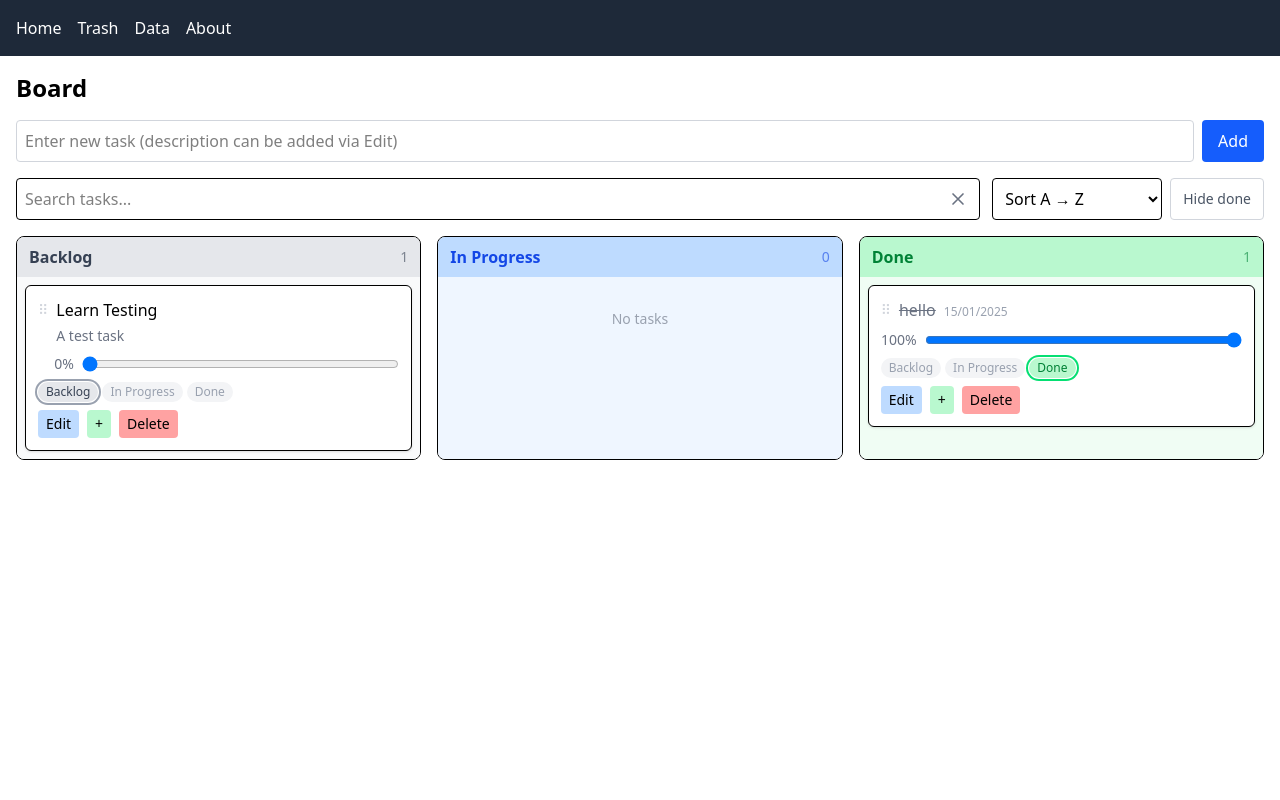
it: saves updated description from edit modal
Click the button "Edit" below "A test task": click(59, 424) [38,410,79,438]
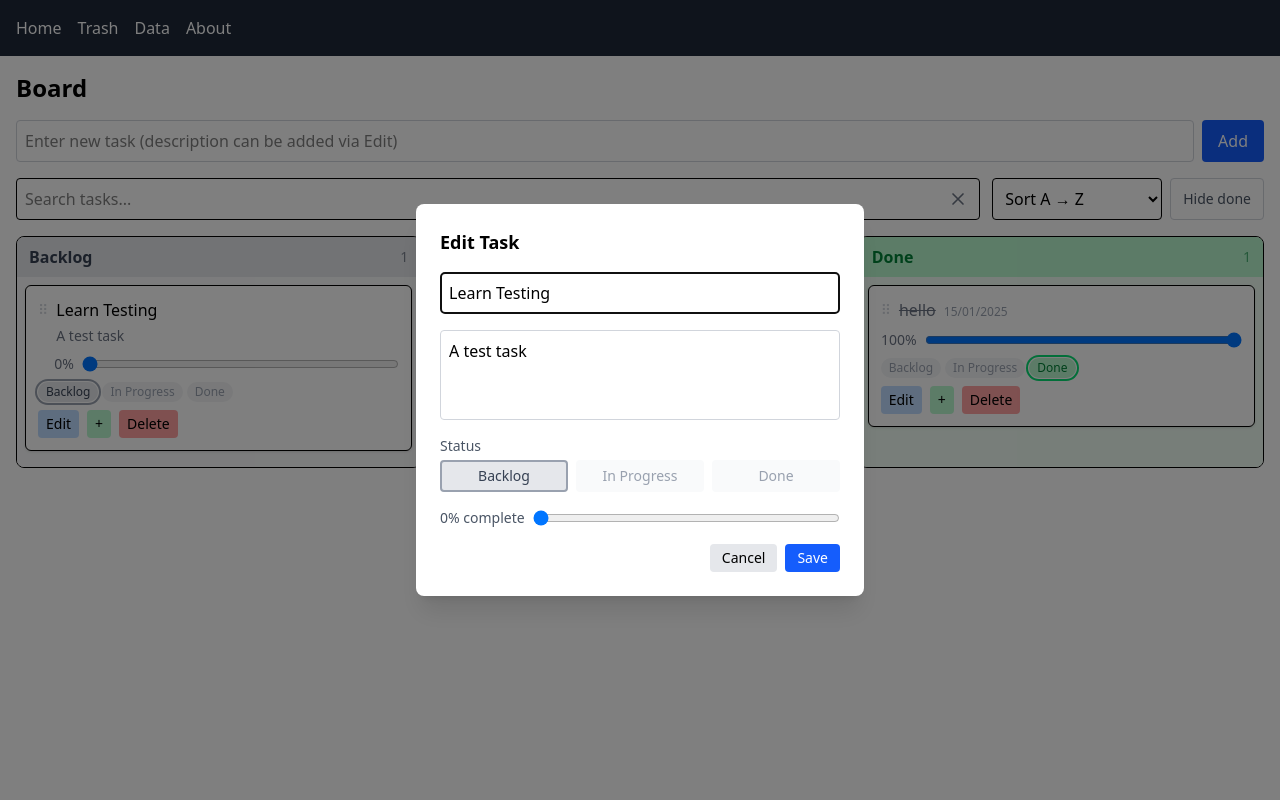
Replace the text in the text box named "Description" with "New description": (640, 375) [440,330,840,420]
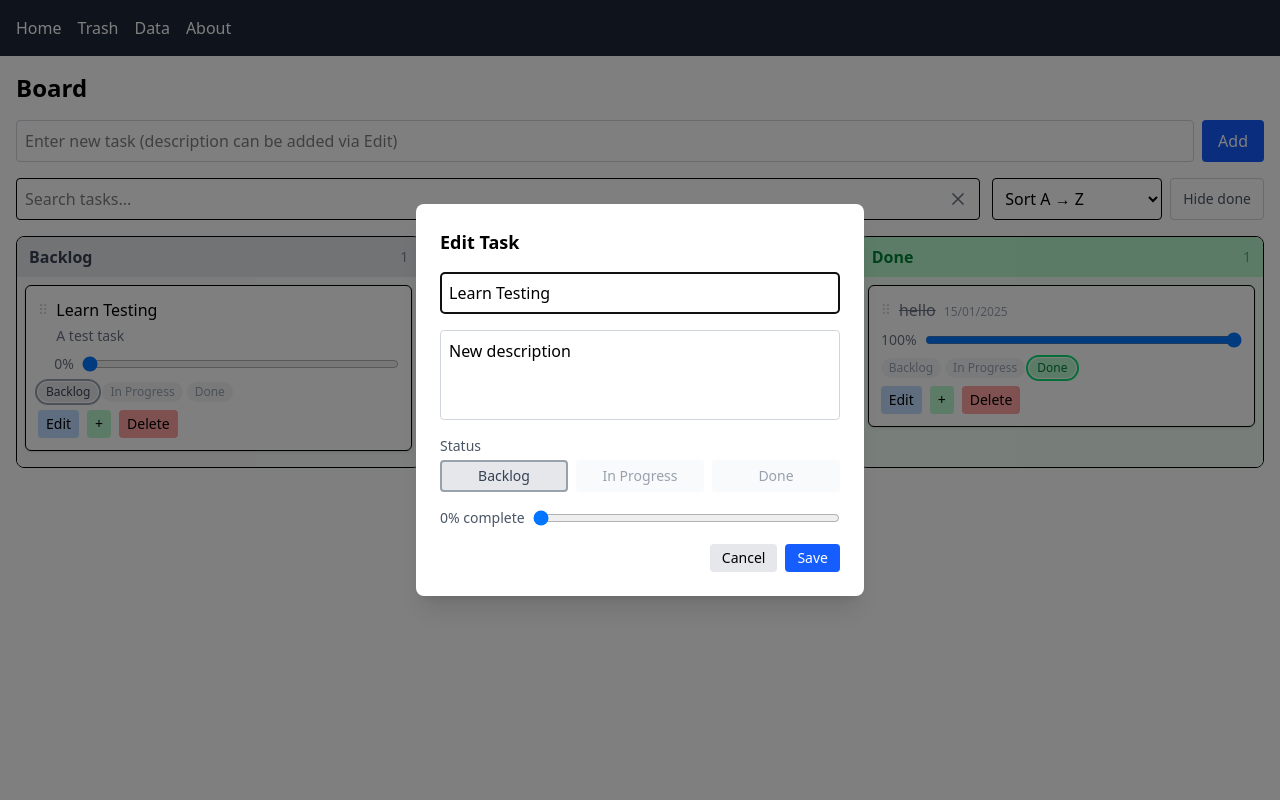
Click the button "Save": click(813, 558) [785,544,840,572]
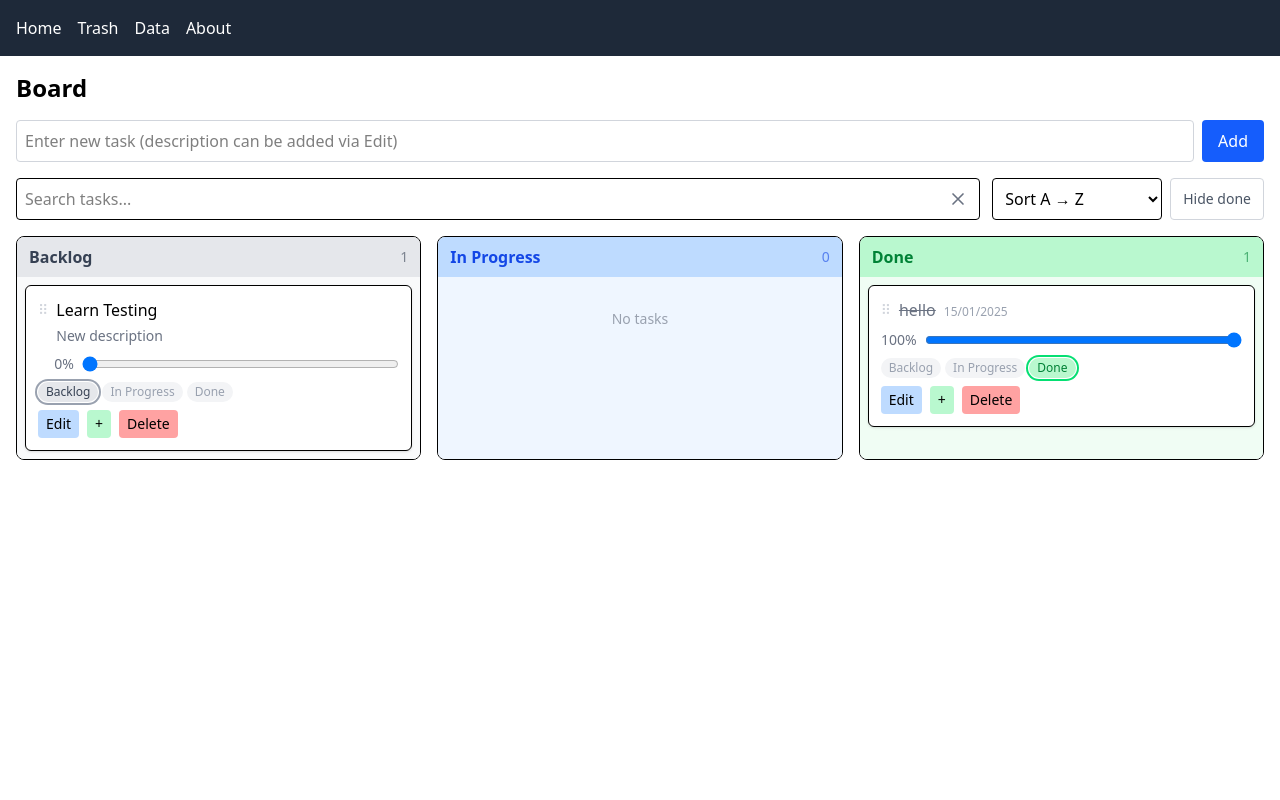
Expected: the text "New description" is shown, [56,326,163,345]
Expected: the dialog is gone
